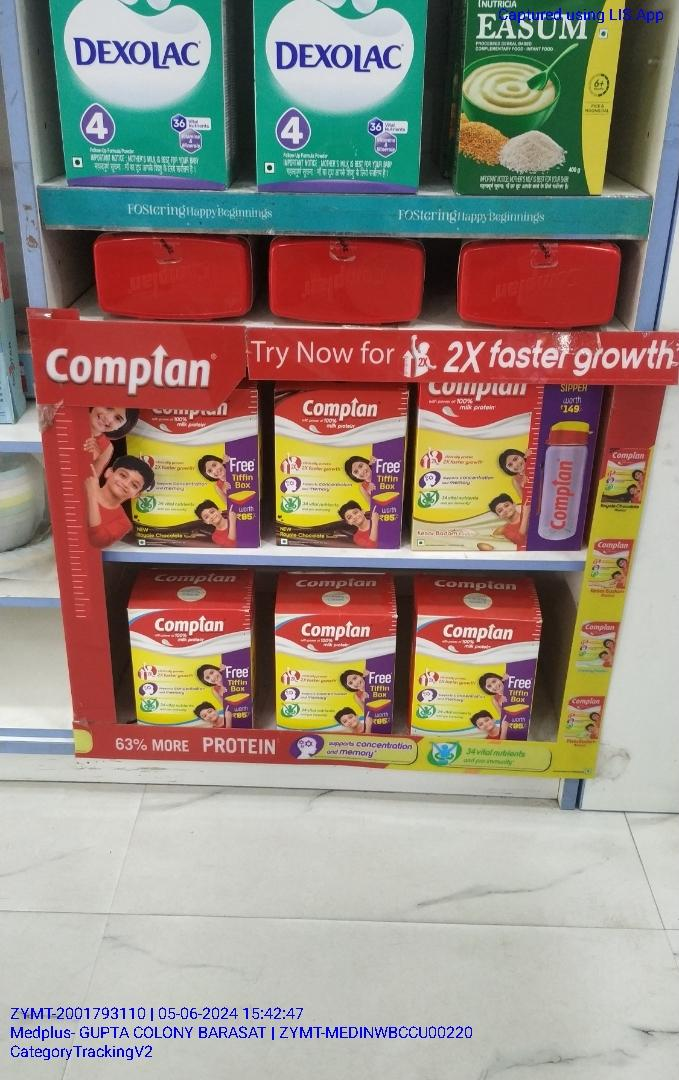COMPLAN_CHOCOLATE_500_GMS_PACK: (272, 387, 402, 544)
COMPLAN_CREAMY_CLASSIC_500_G_PACK: (417, 615, 538, 740), (278, 609, 396, 730), (130, 606, 248, 726)
COMPLAN_KESAR_BADAM_500_GMS_PACK: (415, 381, 531, 555)
